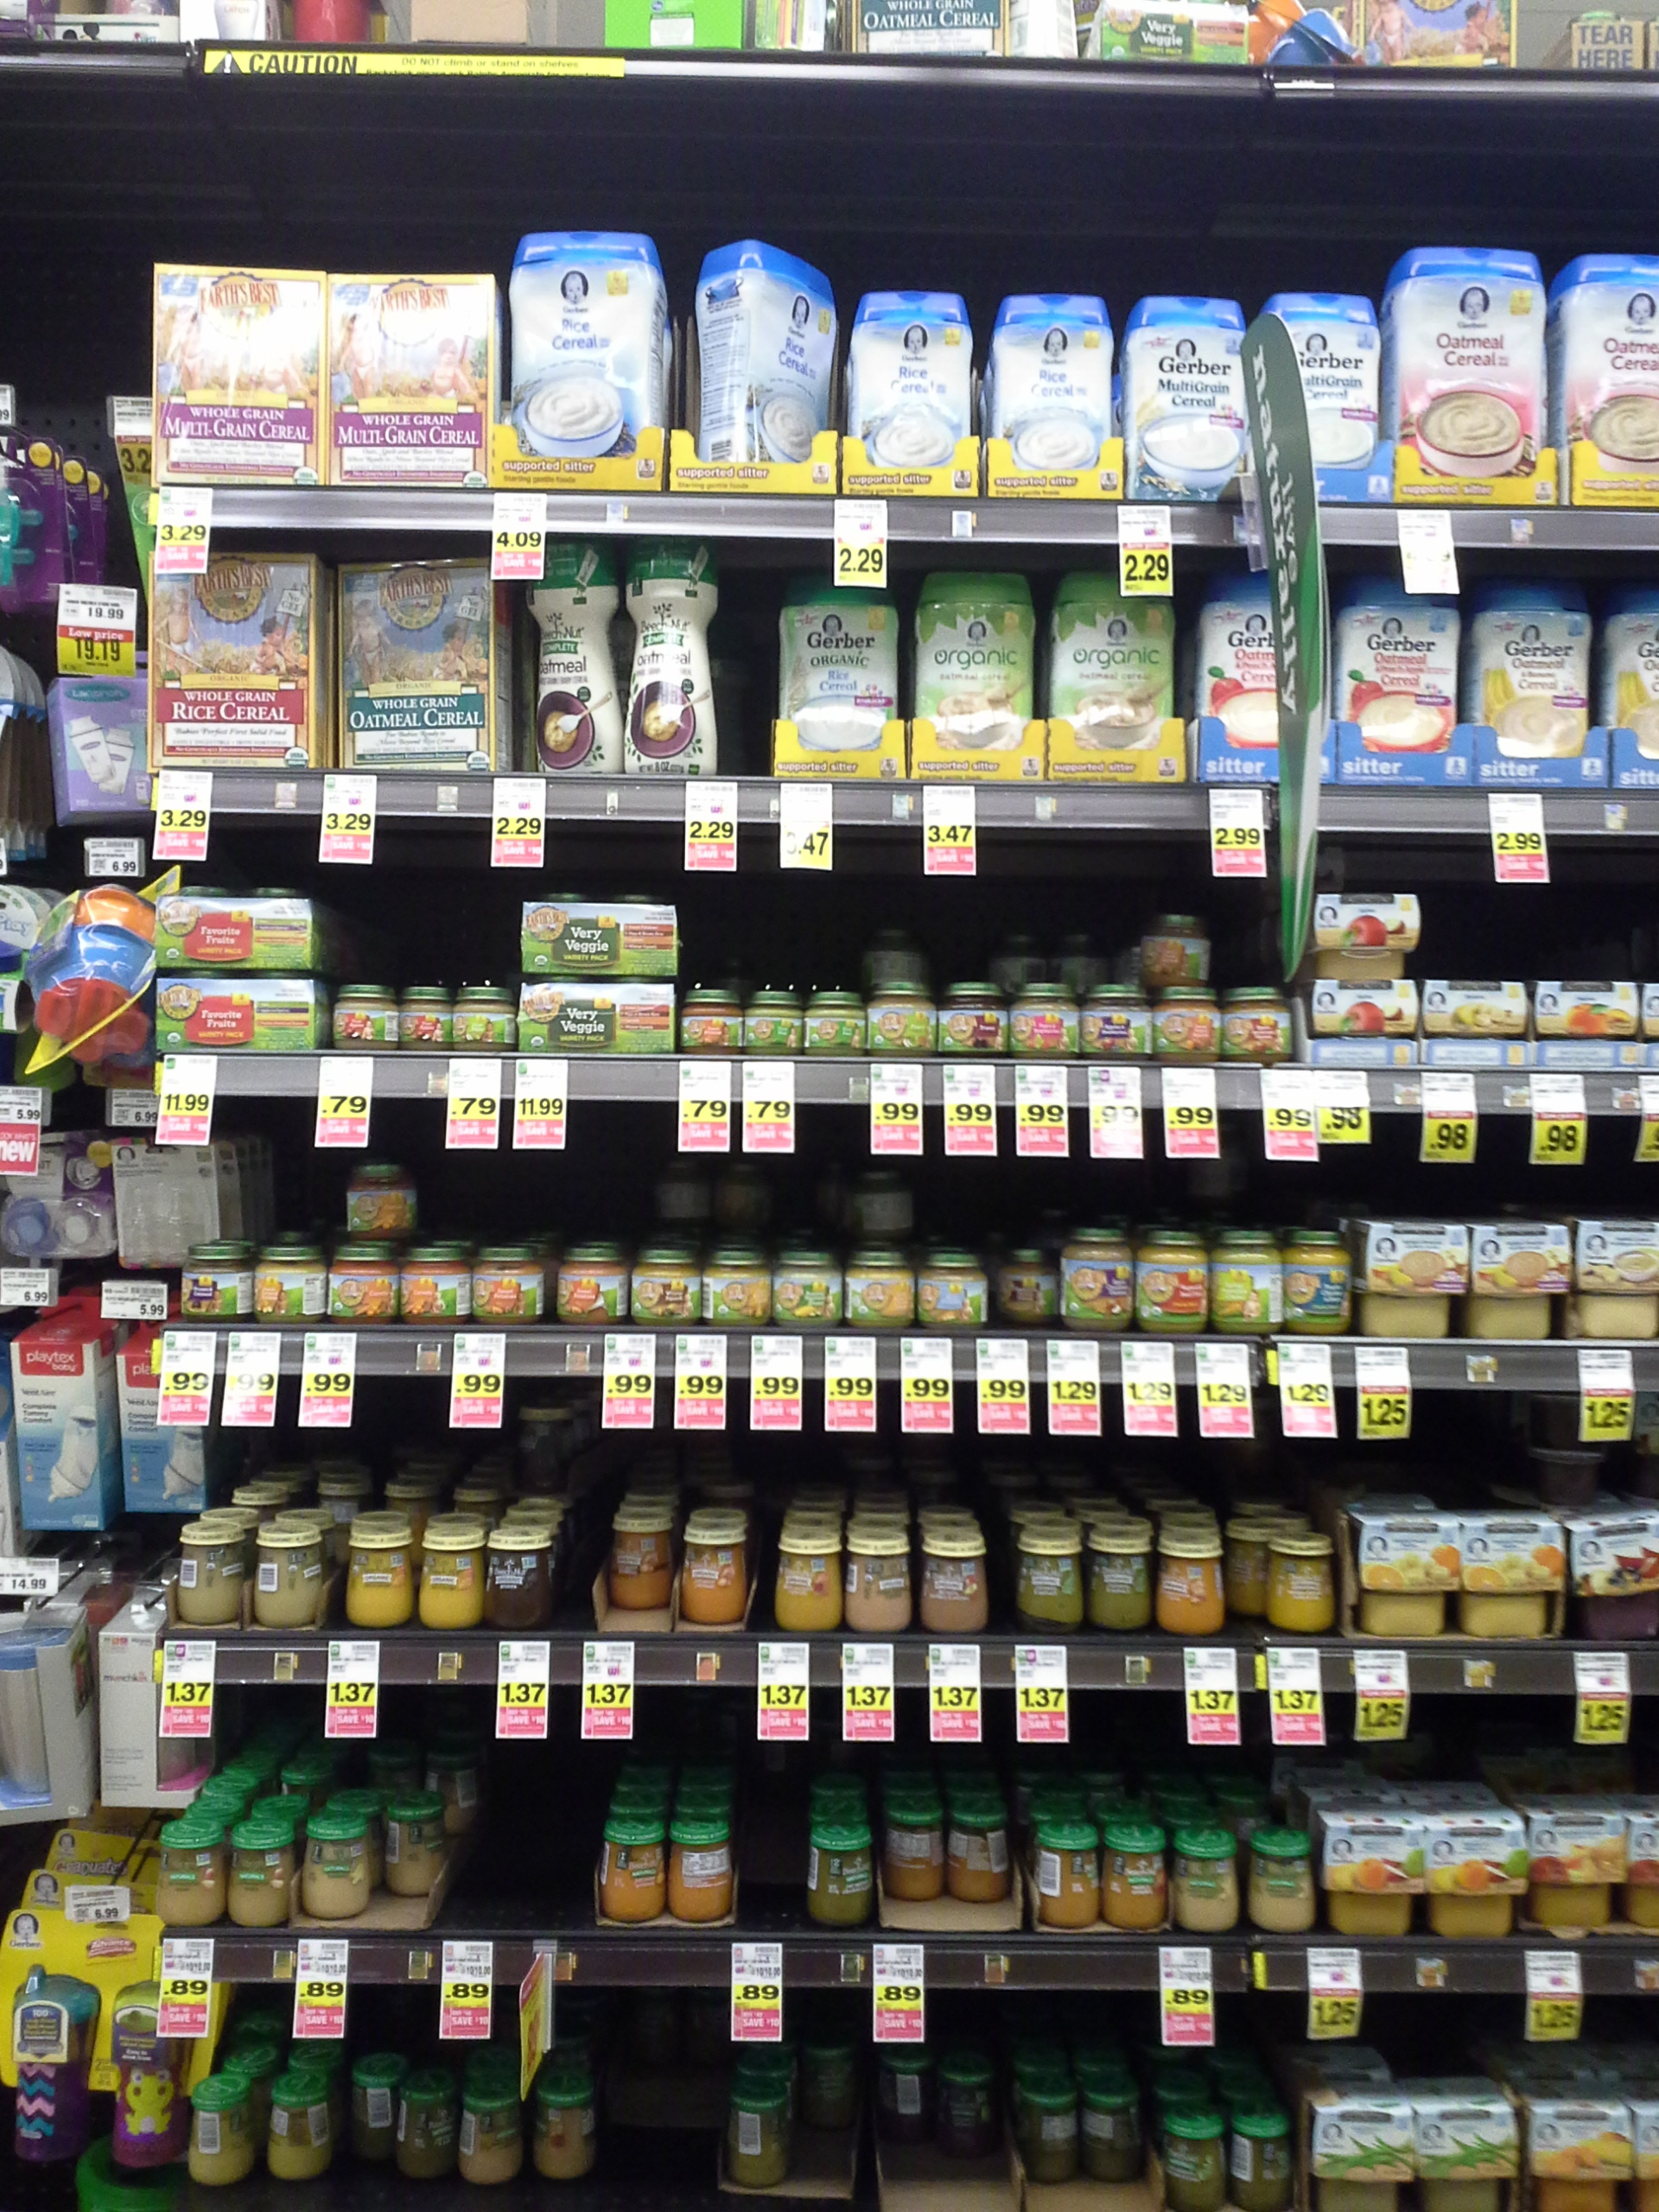product: (1396, 240, 1547, 512), (512, 212, 655, 493), (143, 547, 312, 775), (153, 265, 315, 488), (706, 221, 833, 489), (331, 268, 481, 489), (1053, 568, 1182, 799), (345, 570, 490, 775), (1197, 563, 1328, 787), (992, 284, 1124, 500), (1554, 235, 1659, 505), (777, 549, 899, 779), (1469, 575, 1596, 791), (917, 563, 1037, 789), (1337, 568, 1459, 786), (1256, 286, 1378, 498), (1133, 284, 1249, 505), (850, 279, 967, 498), (627, 538, 730, 782), (518, 531, 617, 780), (5, 1965, 98, 2167), (12, 1329, 98, 1533), (113, 1339, 204, 1503), (113, 1989, 190, 2167), (1460, 1512, 1563, 1641), (1425, 1803, 1521, 1940), (47, 671, 136, 819), (159, 975, 312, 1061), (5, 1132, 105, 1263), (1326, 1806, 1422, 1939), (1358, 1512, 1455, 1641), (1413, 2087, 1513, 2212), (1530, 2099, 1642, 2210), (1530, 1806, 1619, 1946), (1310, 2094, 1412, 2212), (528, 899, 681, 975), (1358, 1224, 1467, 1331), (160, 897, 308, 974), (1469, 1228, 1568, 1338), (523, 984, 676, 1052), (1570, 1521, 1659, 1632), (1575, 1219, 1659, 1338), (112, 1141, 178, 1271), (1270, 1517, 1338, 1632), (528, 2069, 598, 2181), (1066, 1223, 1136, 1332), (249, 1522, 321, 1629), (1215, 1224, 1283, 1332), (596, 1817, 664, 1925), (1305, 897, 1425, 958), (347, 1515, 411, 1629), (683, 1514, 748, 1625), (1021, 1522, 1086, 1632), (1249, 1822, 1314, 1932), (1103, 1822, 1168, 1932), (155, 1820, 225, 1921), (810, 1820, 877, 1926), (178, 1514, 239, 1629), (1164, 1519, 1225, 1634), (666, 1820, 734, 1923), (1143, 1224, 1208, 1332), (1175, 1822, 1239, 1930), (1028, 1825, 1098, 1925), (418, 1517, 483, 1623), (1290, 1228, 1354, 1334), (772, 1533, 840, 1632), (843, 1533, 911, 1632), (920, 1533, 988, 1632), (383, 1796, 448, 1900), (228, 1820, 293, 1925), (1161, 2106, 1225, 2210), (1230, 2107, 1295, 2212), (728, 2071, 788, 2184), (1016, 2076, 1077, 2186), (193, 2076, 256, 2182), (1303, 979, 1417, 1036), (1091, 1522, 1152, 1629), (1079, 2071, 1138, 2179), (268, 2074, 331, 2175), (941, 2050, 999, 2160), (615, 1507, 674, 1613), (950, 1796, 1009, 1902), (462, 2073, 519, 2181), (488, 1514, 547, 1618), (1540, 1428, 1621, 1505), (1424, 979, 1525, 1038), (303, 1815, 364, 1912), (701, 1244, 770, 1329), (401, 2071, 455, 2181), (803, 2026, 859, 2130), (917, 1244, 986, 1327), (884, 1803, 943, 1900), (878, 2043, 934, 2146), (477, 1244, 549, 1324), (519, 1399, 579, 1494), (347, 1162, 418, 1238), (340, 2055, 392, 2160), (1530, 982, 1638, 1033), (1225, 984, 1295, 1061), (183, 1242, 249, 1322), (849, 1244, 913, 1325), (558, 1242, 624, 1320), (777, 1247, 842, 1327), (1014, 982, 1082, 1057), (995, 1244, 1058, 1324), (1082, 986, 1152, 1057), (401, 1247, 467, 1322), (258, 1244, 322, 1320), (329, 1247, 396, 1318), (1145, 909, 1211, 981), (634, 1245, 695, 1322), (945, 977, 1007, 1050), (634, 1984, 685, 2071), (1159, 988, 1222, 1057), (335, 979, 396, 1050), (681, 982, 742, 1050), (453, 981, 512, 1050), (868, 993, 934, 1054), (805, 986, 863, 1055), (751, 984, 805, 1055), (870, 923, 929, 988), (666, 1143, 713, 1221), (854, 1172, 913, 1233), (692, 1986, 737, 2064), (401, 982, 451, 1050), (716, 1162, 770, 1224)
